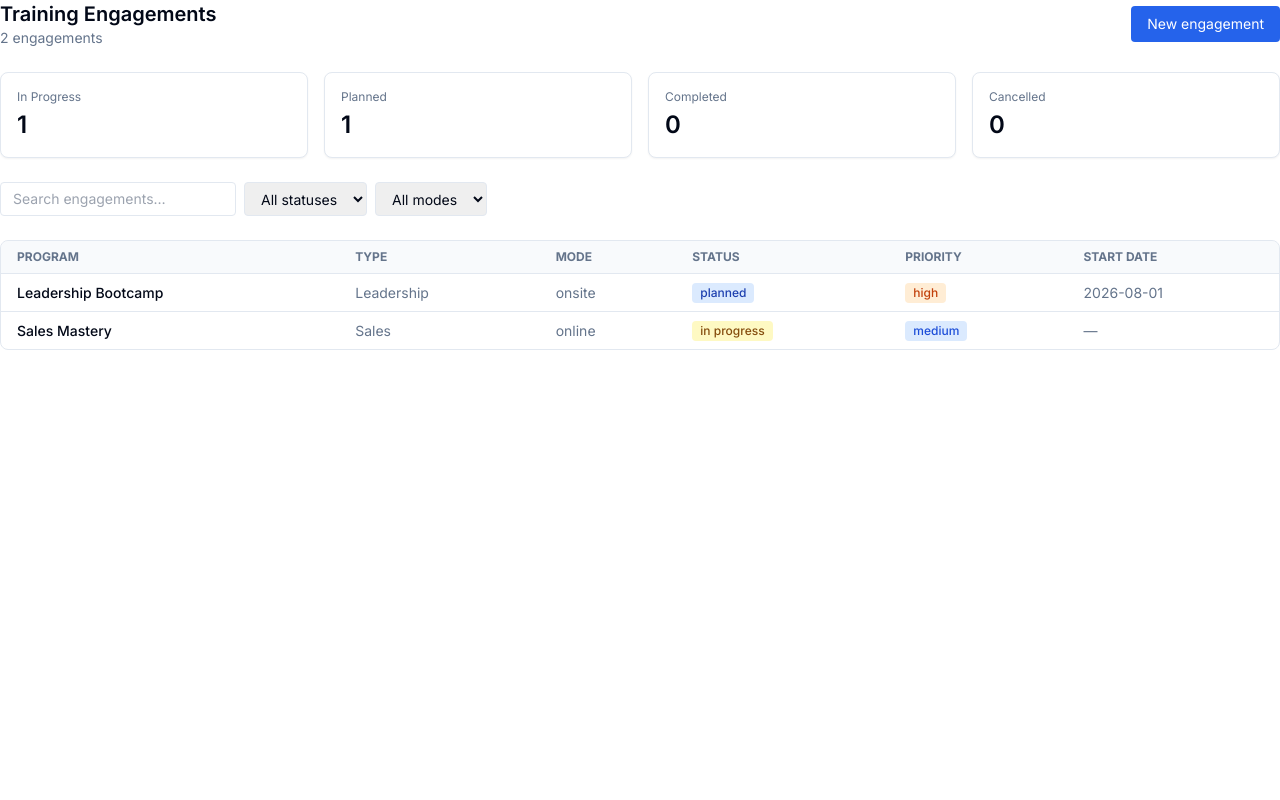
Scenario: TrainingCenter — add engagement button › cancel button closes dialog
The width and height of the screenshot is (1280, 800).
Click the button with test id "add-engagement-btn" at (1206, 24), box x1=1131 y1=6 x2=1279 y2=42
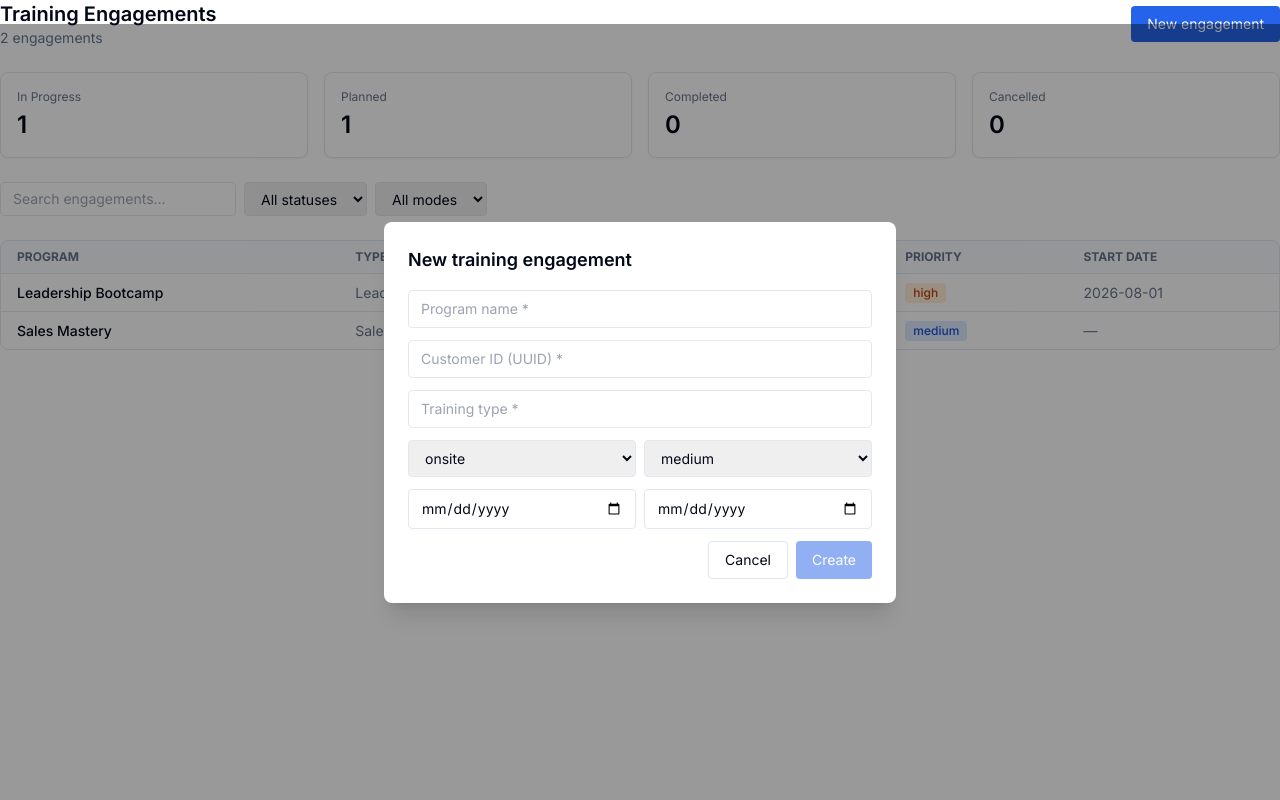
Click the button with test id "create-cancel" at (748, 560), box x1=708 y1=540 x2=788 y2=578
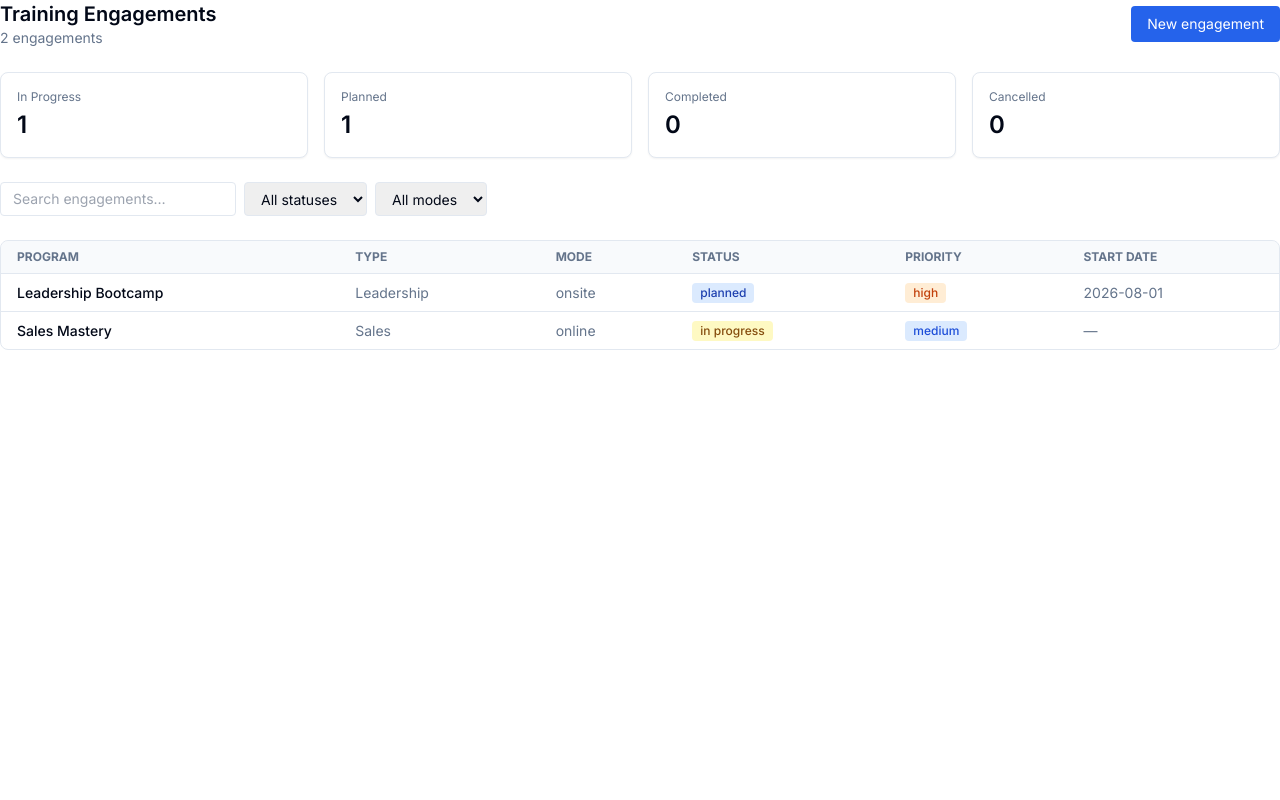
Expected: the element with test id "create-dialog" is gone
